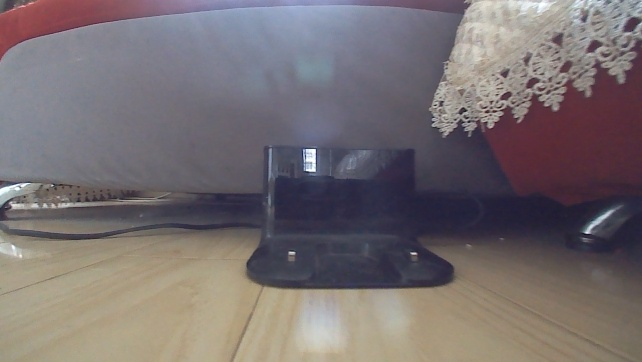charger: (245, 143, 453, 291)
sofa1: (0, 0, 641, 254)
wire: (0, 219, 263, 241), (415, 186, 487, 236)
